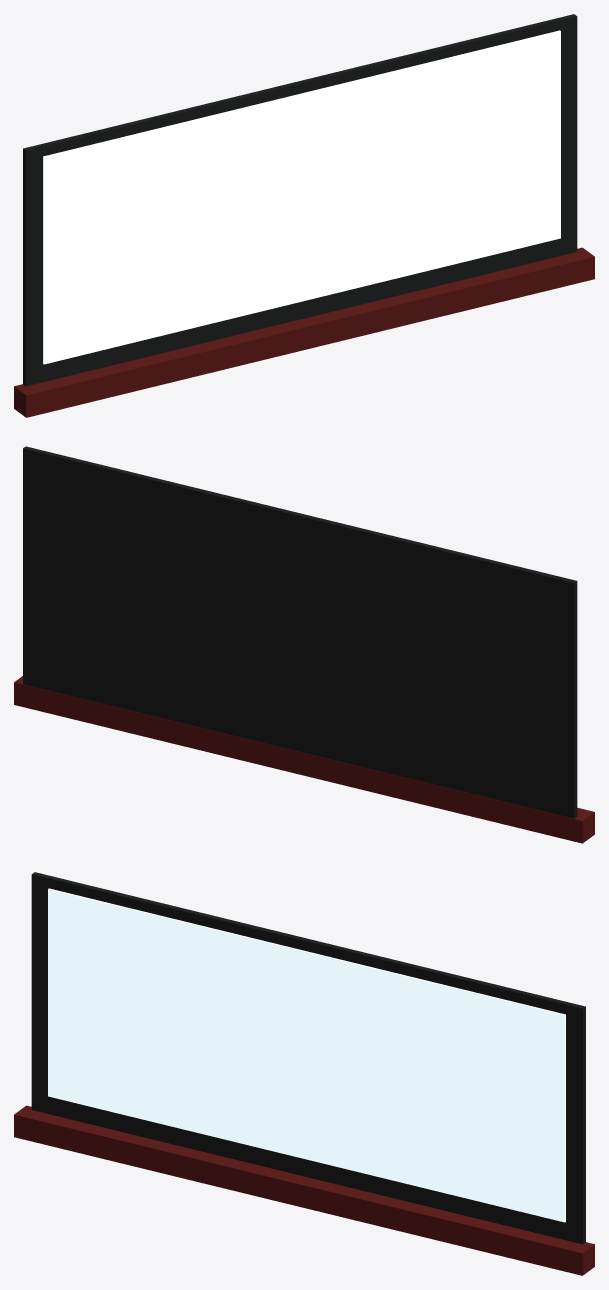
File: cinema_screen.glb
3 renders of one model, top to bottom at view 1: azimuth 30°, elevation 25°; view 2: azimuth 150°, elevation 25°; view 3: azimuth 330°, elevation 25°, orthographic.
Parts seen in each view (by area): view 1: CinemaScreen; view 2: CinemaScreen; view 3: CinemaScreen.
Boxes of the visible parts, bbox=[...] form: CinemaScreen: bbox=[14, 14, 594, 417]; CinemaScreen: bbox=[14, 446, 594, 843]; CinemaScreen: bbox=[14, 872, 594, 1275].
Size of the model in its own units: 6.6 by 2.86 by 0.25.
